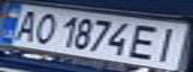1: (54, 14, 78, 48)
4: (106, 19, 136, 57)
7: (87, 17, 112, 54)
8: (72, 16, 93, 52)
A: (6, 8, 45, 43)
E: (124, 21, 166, 62)
I: (148, 25, 190, 64)
O: (27, 10, 60, 45)
